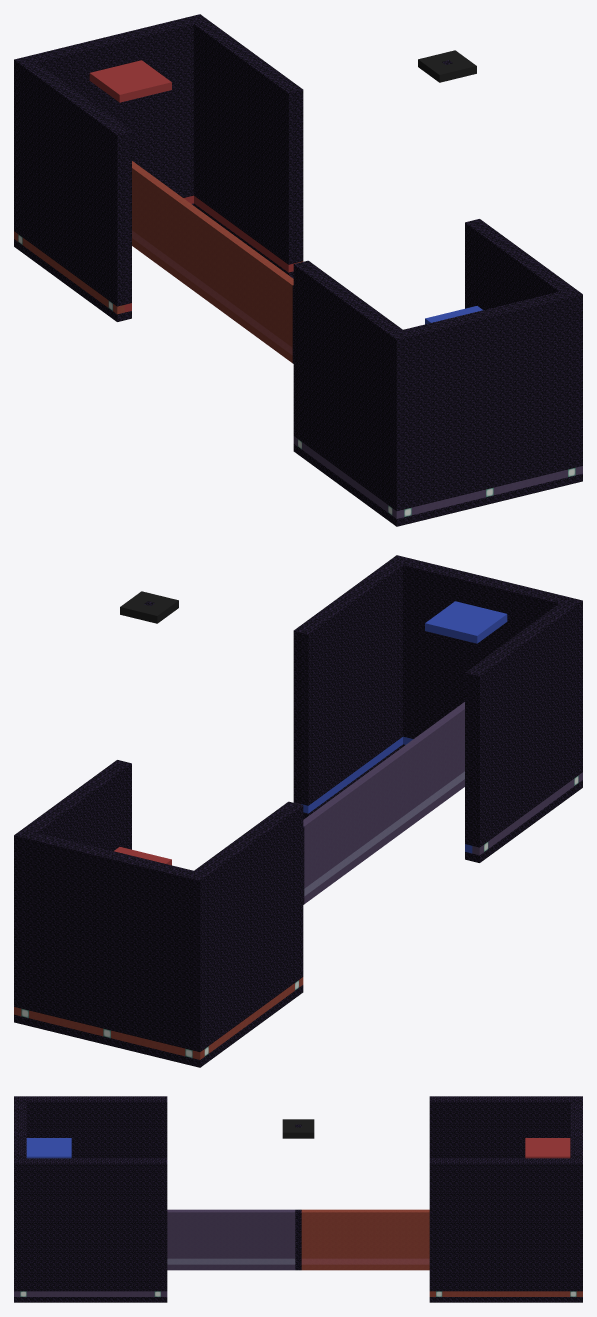
Rendered from minecraft.obj.
The picture shows the model from 3 angles, top to bottom: view 1: azimuth 30°, elevation 25°; view 2: azimuth 150°, elevation 25°; view 3: azimuth 270°, elevation 25°; orthographic projection. The views are drawn at different scales.
Size of the model in its own units: 35 by 34 by 89.
